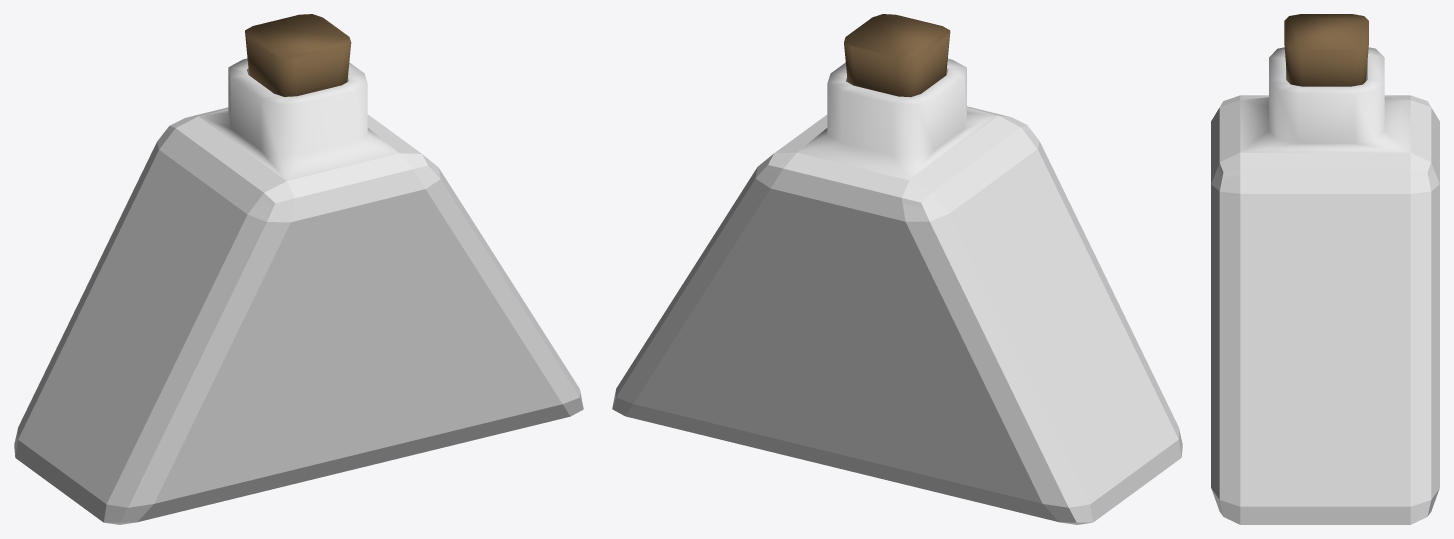
Rendered from speed-potion.glb.
3 renders of one model, left to right at view 1: azimuth 30°, elevation 25°; view 2: azimuth 150°, elevation 25°; view 3: azimuth 270°, elevation 25°, orthographic. The views are drawn at different scales.
Visible parts, largest first — view 1: Speed Potion; view 2: Speed Potion; view 3: Speed Potion.
Boxes of the visible parts, x1,y1,x2,y2 form: Speed Potion: [14, 14, 583, 524]; Speed Potion: [612, 14, 1182, 524]; Speed Potion: [1211, 14, 1439, 524].
Size of the model in its own units: 3.62 by 2.9 by 1.56.
